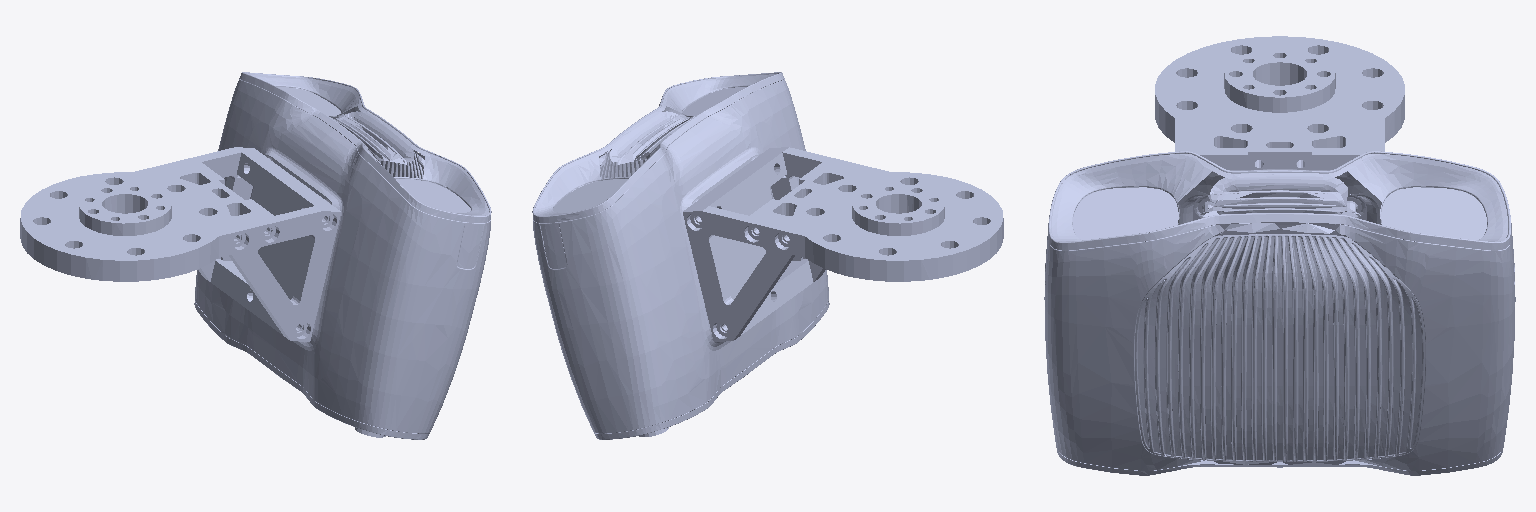
robot.urdf — zivid2_indy7_handeye_description:
<?xml version="1.0" encoding="utf-8"?>
<!-- This URDF was automatically created by SolidWorks to URDF Exporter! Originally created by [author] ([email redacted]) 
     Commit Version: 1.6.0-1-g15f4949  Build Version: 1.6.7594.29634
     For more information, please see http://wiki.ros.org/sw_urdf_exporter -->
<robot
  name="zivid2_indy7_handeye_description">
  <link
    name="handeye_mount_robot_side_link">
    <inertial>
      <origin
        xyz="0.00542295717154243 -3.47172012574374E-18 0.00579697260656211"
        rpy="0 0 0" />
      <mass
        value="0.0609951923380376" />
      <inertia
        ixx="3.46204693116177E-05"
        ixy="1.26397696746349E-07"
        ixz="2.63618068582506E-07"
        iyy="4.43265762910423E-05"
        iyz="-1.35277987165136E-22"
        izz="7.73237143374981E-05" />
    </inertial>
    <visual>
      <origin
        xyz="0 0 0"
        rpy="0 0 0" />
      <geometry>
        <mesh
          filename="package://zivid2_indy7_handeye_description/meshes/visual/handeye_mount_robot_side_link.STL" />
      </geometry>
      <material
        name="">
        <color
          rgba="0.792156862745098 0.819607843137255 0.933333333333333 1" />
      </material>
    </visual>
    <collision>
      <origin
        xyz="0 0 0"
        rpy="0 0 0" />
      <geometry>
        <mesh
          filename="package://zivid2_indy7_handeye_description/meshes/collision/handeye_mount_robot_side_link.STL" />
      </geometry>
    </collision>
  </link>
  <link
    name="handeye_mount_camera_side_left_link">
    <inertial>
      <origin
        xyz="-0.0245108685601493 0.015834659473862 -0.00286962559085117"
        rpy="0 0 0" />
      <mass
        value="0.00758533257273171" />
      <inertia
        ixx="1.35958863699959E-06"
        ixy="-2.20340605842161E-07"
        ixz="-8.81003623362969E-09"
        iyy="1.95061759862085E-06"
        iyz="-4.38636193121888E-09"
        izz="3.26709534910237E-06" />
    </inertial>
    <visual>
      <origin
        xyz="0 0 0"
        rpy="0 0 0" />
      <geometry>
        <mesh
          filename="package://zivid2_indy7_handeye_description/meshes/visual/handeye_mount_camera_side_left_link.STL" />
      </geometry>
      <material
        name="">
        <color
          rgba="0.792156862745098 0.819607843137255 0.933333333333333 1" />
      </material>
    </visual>
    <collision>
      <origin
        xyz="0 0 0"
        rpy="0 0 0" />
      <geometry>
        <mesh
          filename="package://zivid2_indy7_handeye_description/meshes/collision/handeye_mount_camera_side_left_link.STL" />
      </geometry>
    </collision>
  </link>
  <joint
    name="handeye_mount_camera_side_left_joint"
    type="fixed">
    <origin
      xyz="0.0758746859276655 -0.0375 0.00999999999999998"
      rpy="1.5707963267949 -1.5707963267949 0" />
    <parent
      link="handeye_mount_robot_side_link" />
    <child
      link="handeye_mount_camera_side_left_link" />
    <axis
      xyz="0 0 0" />
  </joint>
  <link
    name="handeye_mount_camera_side_right_link">
    <inertial>
      <origin
        xyz="-0.0245108685601493 0.015834659473862 -0.00313037440914883"
        rpy="0 0 0" />
      <mass
        value="0.00758533257273171" />
      <inertia
        ixx="1.35958863699959E-06"
        ixy="-2.20340605842162E-07"
        ixz="8.81003623362979E-09"
        iyy="1.95061759862085E-06"
        iyz="4.38636193121886E-09"
        izz="3.26709534910237E-06" />
    </inertial>
    <visual>
      <origin
        xyz="0 0 0"
        rpy="0 0 0" />
      <geometry>
        <mesh
          filename="package://zivid2_indy7_handeye_description/meshes/visual/handeye_mount_camera_side_right_link.STL" />
      </geometry>
      <material
        name="">
        <color
          rgba="0.792156862745098 0.819607843137255 0.933333333333333 1" />
      </material>
    </visual>
    <collision>
      <origin
        xyz="0 0 0"
        rpy="0 0 0" />
      <geometry>
        <mesh
          filename="package://zivid2_indy7_handeye_description/meshes/collision/handeye_mount_camera_side_right_link.STL" />
      </geometry>
    </collision>
  </link>
  <joint
    name="handeye_mount_camera_side_right_joint"
    type="fixed">
    <origin
      xyz="0.0758746859276655 0.0315 0.01"
      rpy="1.5707963267949 -1.5707963267949 0" />
    <parent
      link="handeye_mount_robot_side_link" />
    <child
      link="handeye_mount_camera_side_right_link" />
    <axis
      xyz="0 0 0" />
  </joint>
  <link
    name="handeye_mount_camera_side_front_link">
    <inertial>
      <origin
        xyz="-2.61587333391189E-18 0 0.005"
        rpy="0 0 0" />
      <mass
        value="0.00623322396259774" />
      <inertia
        ixx="1.07682822843439E-07"
        ixy="-1.24621756525767E-22"
        ixz="1.2133930982937E-22"
        iyy="2.23999747115371E-06"
        iyz="5.29395592033938E-23"
        izz="2.24265637118604E-06" />
    </inertial>
    <visual>
      <origin
        xyz="0 0 0"
        rpy="0 0 0" />
      <geometry>
        <mesh
          filename="package://zivid2_indy7_handeye_description/meshes/visual/handeye_mount_camera_side_front_link.STL" />
      </geometry>
      <material
        name="">
        <color
          rgba="0.792156862745098 0.819607843137255 0.933333333333333 1" />
      </material>
    </visual>
    <collision>
      <origin
        xyz="0 0 0"
        rpy="0 0 0" />
      <geometry>
        <mesh
          filename="package://zivid2_indy7_handeye_description/meshes/collision/handeye_mount_camera_side_front_link.STL" />
      </geometry>
    </collision>
  </link>
  <joint
    name="handeye_mount_camera_side_front_joint"
    type="fixed">
    <origin
      xyz="0.0842398489650436 0 0.00258218041752943"
      rpy="-1.30899693899574 0 1.5707963267949" />
    <parent
      link="handeye_mount_robot_side_link" />
    <child
      link="handeye_mount_camera_side_front_link" />
    <axis
      xyz="0 0 0" />
  </joint>
  <link
    name="handeye_mount_camera_side_back_link">
    <inertial>
      <origin
        xyz="-2.99779924564527E-18 3.10338983952989E-05 0.005"
        rpy="0 0 0" />
      <mass
        value="0.00632693767145433" />
      <inertia
        ixx="1.0928370911591E-07"
        ixy="-1.15244818391595E-22"
        ixz="2.77138766799426E-23"
        iyy="2.4167045243584E-06"
        iyz="0"
        izz="2.41783153134202E-06" />
    </inertial>
    <visual>
      <origin
        xyz="0 0 0"
        rpy="0 0 0" />
      <geometry>
        <mesh
          filename="package://zivid2_indy7_handeye_description/meshes/visual/handeye_mount_camera_side_back_link.STL" />
      </geometry>
      <material
        name="">
        <color
          rgba="0.792156862745098 0.819607843137255 0.933333333333333 1" />
      </material>
    </visual>
    <collision>
      <origin
        xyz="0 0 0"
        rpy="0 0 0" />
      <geometry>
        <mesh
          filename="package://zivid2_indy7_handeye_description/meshes/collision/handeye_mount_camera_side_back_link.STL" />
      </geometry>
    </collision>
  </link>
  <joint
    name="handeye_mount_camera_side_back_joint"
    type="fixed">
    <origin
      xyz="0.0712988967099173 0 -0.0457141108969239"
      rpy="-1.30899693899574 0 1.5707963267949" />
    <parent
      link="handeye_mount_robot_side_link" />
    <child
      link="handeye_mount_camera_side_back_link" />
    <axis
      xyz="0 0 0" />
  </joint>
  <link
    name="zivid2_link">
    <inertial>
      <origin
        xyz="-2.24053141334417E-08 0.0173151717883415 -0.0943181061541319"
        rpy="0 0 0" />
      <mass
        value="0.000142965573644119" />
      <inertia
        ixx="1.05563375392155E-10"
        ixy="-2.04165995999251E-16"
        ixz="-1.33737132708073E-15"
        iyy="1.71964639230322E-08"
        iyz="-6.47115870912104E-11"
        izz="1.72463016614633E-08" />
    </inertial>
    <visual>
      <origin
        xyz="0 0 0"
        rpy="0 0 0" />
      <geometry>
        <mesh
          filename="package://zivid2_indy7_handeye_description/meshes/visual/zivid2_link.STL" />
      </geometry>
      <material
        name="">
        <color
          rgba="0.792156862745098 0.819607843137255 0.933333333333333 1" />
      </material>
    </visual>
    <collision>
      <origin
        xyz="0 0 0"
        rpy="0 0 0" />
      <geometry>
        <mesh
          filename="package://zivid2_indy7_handeye_description/meshes/collision/zivid2_link.STL" />
      </geometry>
    </collision>
  </link>
  <joint
    name="zivid2_joint"
    type="fixed">
    <origin
      xyz="0.116358127472006 0 0.00846998015505189"
      rpy="-0.261799387799153 0 -1.5707963267949" />
    <parent
      link="handeye_mount_robot_side_link" />
    <child
      link="zivid2_link" />
    <axis
      xyz="0 0 0" />
  </joint>
</robot>

--- Facts derived from the render (not from the file) ---
The picture shows the robot from 3 angles, left to right: view 1: azimuth 30°, elevation 25°; view 2: azimuth 150°, elevation 25°; view 3: azimuth 270°, elevation 25°; orthographic projection.
Model zivid2_indy7_handeye_description with 6 links and 5 joints (5 fixed), rooted at handeye_mount_robot_side_link, posed every joint at zero.
Links seen in each view (by area): view 1: zivid2_link, handeye_mount_robot_side_link, handeye_mount_camera_side_left_link, handeye_mount_camera_side_front_link, handeye_mount_camera_side_right_link, handeye_mount_camera_side_back_link; view 2: zivid2_link, handeye_mount_robot_side_link, handeye_mount_camera_side_right_link, handeye_mount_camera_side_front_link, handeye_mount_camera_side_left_link, handeye_mount_camera_side_back_link; view 3: zivid2_link, handeye_mount_robot_side_link.
Boxes of the visible links, bbox=[...] form: zivid2_link: bbox=[194, 72, 491, 439]; handeye_mount_robot_side_link: bbox=[20, 161, 276, 281]; handeye_mount_camera_side_left_link: bbox=[227, 206, 340, 341]; handeye_mount_camera_side_front_link: bbox=[237, 151, 335, 223]; handeye_mount_camera_side_right_link: bbox=[144, 147, 257, 281]; handeye_mount_camera_side_back_link: bbox=[211, 259, 302, 334]; zivid2_link: bbox=[532, 72, 829, 439]; handeye_mount_robot_side_link: bbox=[747, 161, 1003, 281]; handeye_mount_camera_side_right_link: bbox=[683, 206, 796, 341]; handeye_mount_camera_side_front_link: bbox=[688, 151, 786, 223]; handeye_mount_camera_side_left_link: bbox=[766, 147, 879, 281]; handeye_mount_camera_side_back_link: bbox=[721, 259, 812, 334]; zivid2_link: bbox=[1044, 151, 1515, 475]; handeye_mount_robot_side_link: bbox=[1155, 36, 1404, 169].
Size in the robot's own frame: 0.1867 by 0.169 by 0.1243 metres.
Meshes: 6 distinct files referenced, 6 mesh visuals loaded (6 binary STL).